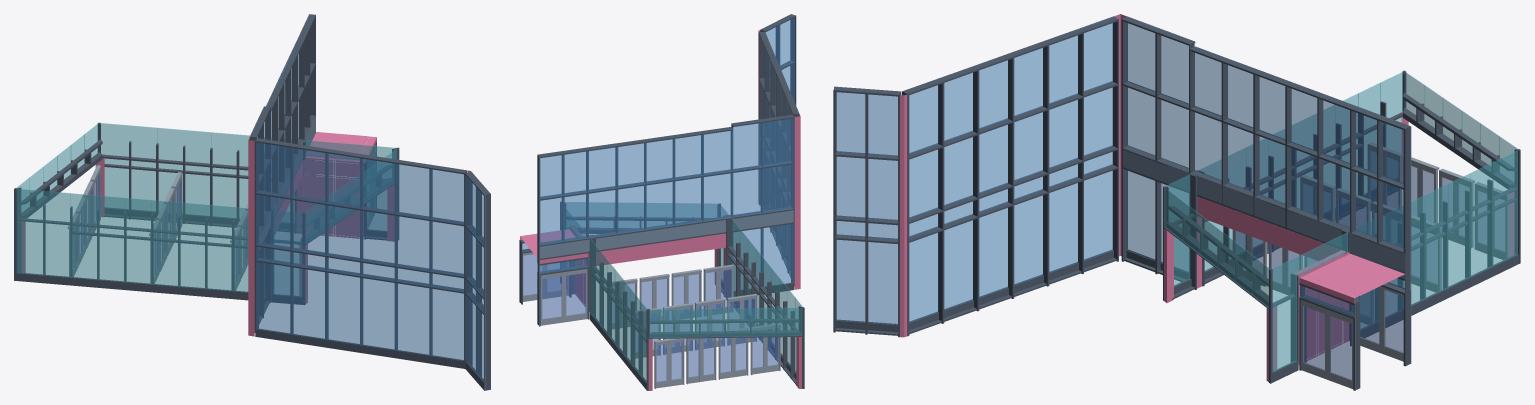
The model's file is sfo-t3w-display.glb.
3 renders of one model, left to right at view 1: azimuth 30°, elevation 25°; view 2: azimuth 150°, elevation 25°; view 3: azimuth 270°, elevation 25°, orthographic. The views are drawn at different scales.
Visible parts, largest first — view 1: Glazing (×50), Aluminum framing (×20), Aluminum panel (×5), Door assembly (×7); view 2: Glazing (×50), Door assembly (×14), Aluminum framing (×23), Aluminum panel (×5), Opaque infill (×9); view 3: Glazing (×69), Aluminum framing (×23), Door assembly (×11), Aluminum panel (×9), Opaque infill (×5).
Part boxes in pixels (x1,y1,x2,y2): Glazing (×50): (16,123,485,389); Aluminum framing (×20): (14,14,490,390); Aluminum panel (×5): (248,132,394,336); Door assembly (×7): (75,165,248,278); Glazing (×50): (539,17,802,382); Door assembly (×14): (523,252,780,388); Aluminum framing (×23): (537,14,804,390); Aluminum panel (×5): (522,114,801,390); Opaque infill (×9): (540,208,793,258); Glazing (×69): (836,17,1517,372); Aluminum framing (×23): (833,16,1520,370); Door assembly (×11): (1232,142,1508,388); Aluminum panel (×9): (900,14,1404,381); Opaque infill (×5): (1123,148,1317,239).
Bounding box in the file's own units: 14.35 × 7.83 × 20.13.
